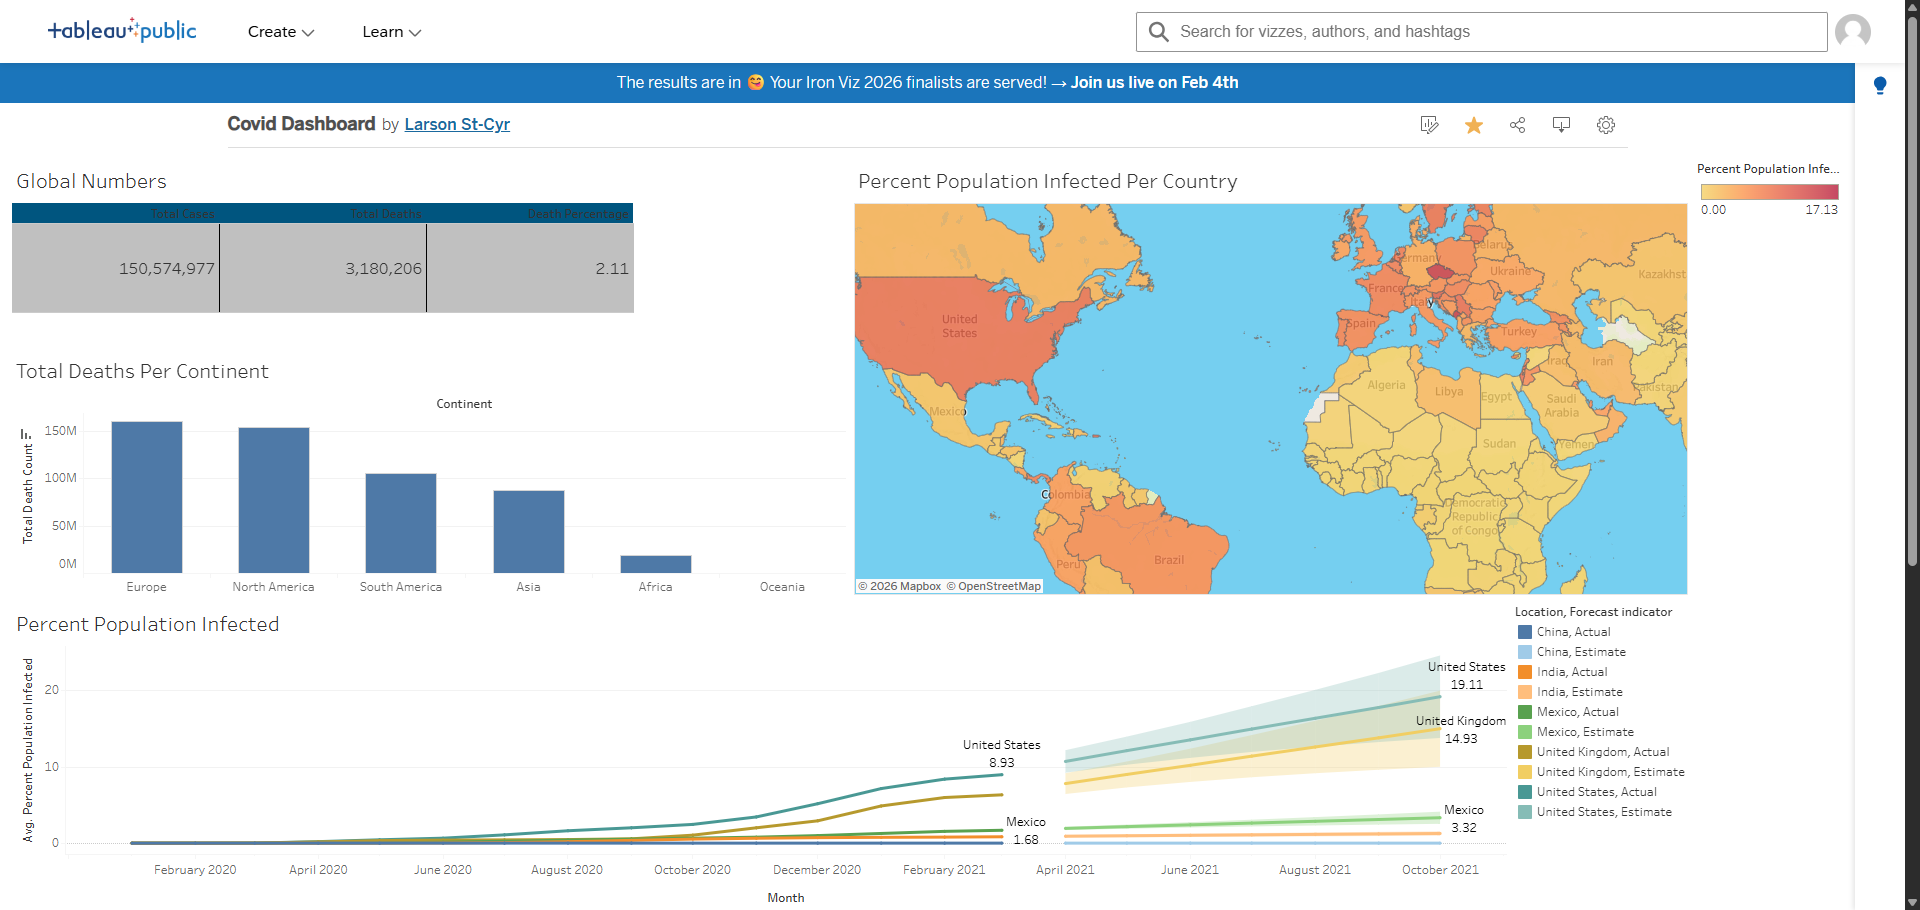

The dashboard page shown, as its layout file describes it:
{"tool":"tableau","page":{"name":"Dashboard 1","canvas":[1000,1000],"units":"permille","ordinal":0},"visuals":[{"type":"worksheet","title":"Sheet 1","mark":"Automatic","box":[4.8,10,448.7,245]},{"type":"worksheet","title":"Sheet 3","mark":"Automatic","box":[453.5,10,448.7,571.8]},{"type":"legend","title":"Sheet 3","param":"[federated.1w7q6b110cvt5s18xdd1j038ngx0].[sum:PercentPopulationInfected:qk]","box":[902.2,10,92.9,91.1]},{"type":"worksheet","title":"Sheet 2","mark":"Automatic","rows":["TotalDeathCount"],"cols":["location"],"box":[4.8,255,448.7,326.8]},{"type":"worksheet","title":"Sheet 4","mark":"Automatic","rows":["PercentPopulationInfected"],"cols":["date"],"box":[4.8,581.8,800.7,408.2]},{"type":"legend","title":"Sheet 4","param":"[federated.1kdsn3s0uwp67c12ptw3415p9qki].[none:Location:nk]\n[federated.1kdsn3s0u","box":[805.6,581.8,96.7,408.2]}]}

Visuals, with their boxes on the dashboard's canvas, which has no fixed pixel size, in thousandths of its width and height (x1, y1, x2, y2). These are canvas units, not pixel positions in the 1920x910 screenshot, which may show the page scaled, cropped or inside an application window:
"Sheet 1" worksheet: 5, 10, 454, 255
"Sheet 3" worksheet: 454, 10, 902, 582
"Sheet 3" legend: 902, 10, 995, 101
"Sheet 2" worksheet: 5, 255, 454, 582
"Sheet 4" worksheet: 5, 582, 806, 990
"Sheet 4" legend: 806, 582, 902, 990
